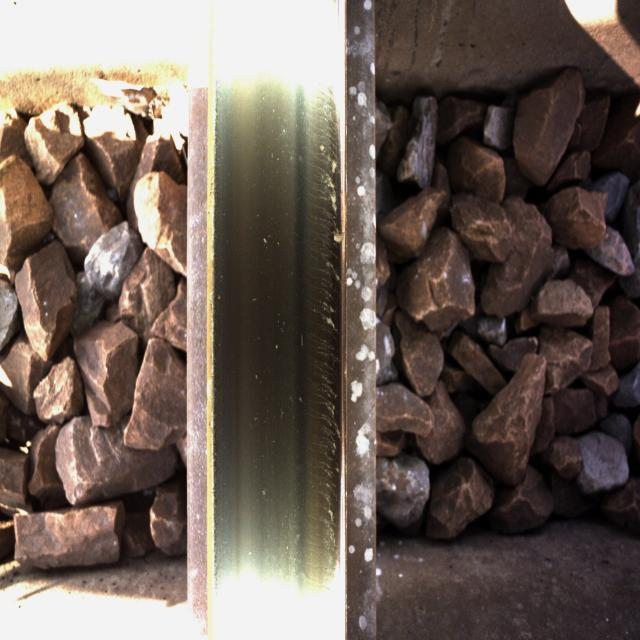normal: (254, 63, 345, 575)
